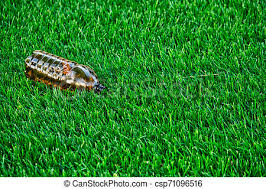plastic_bottle: (24, 48, 106, 98)
